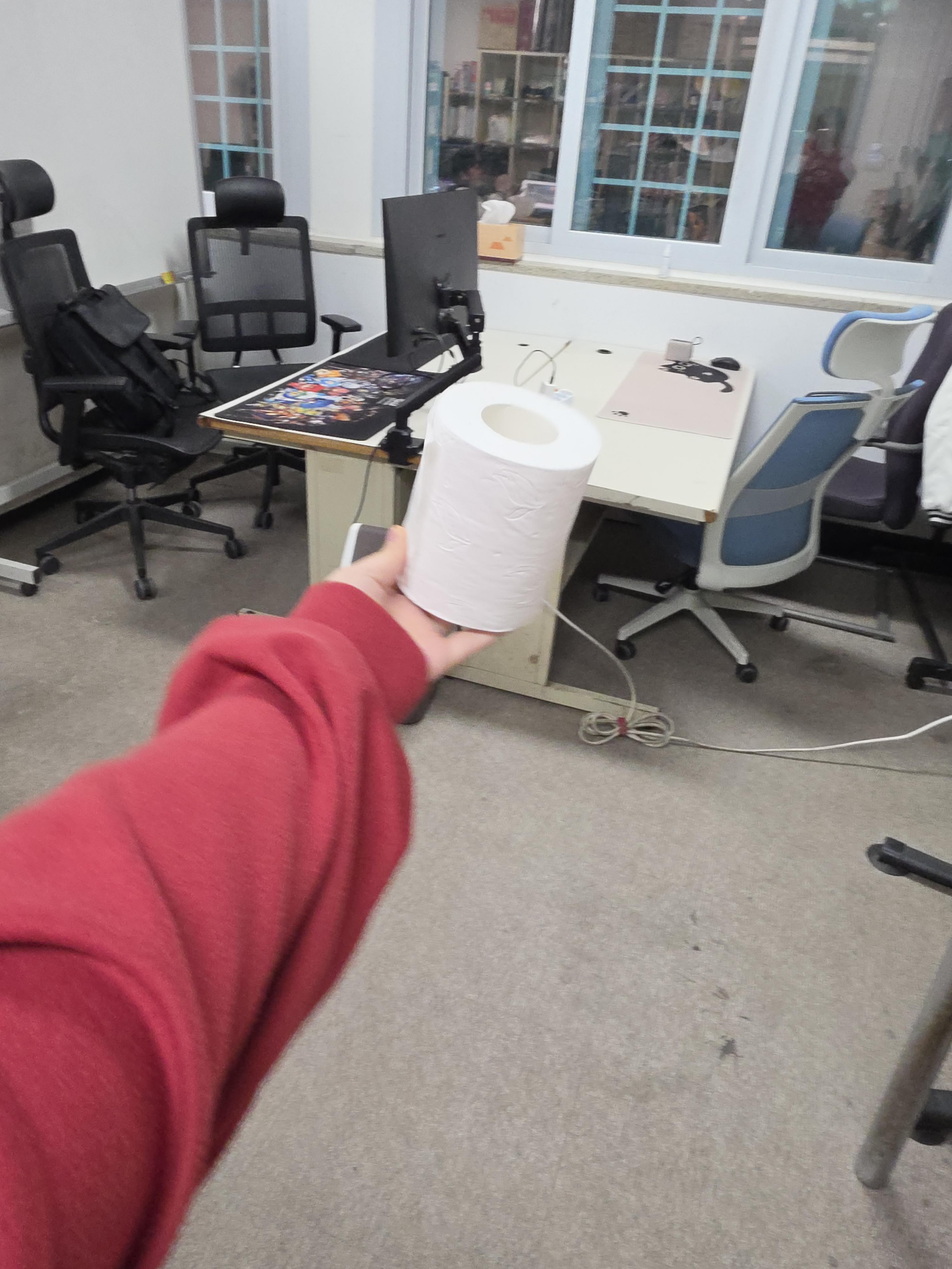tissue: (397, 380, 603, 634), (477, 198, 525, 262)
